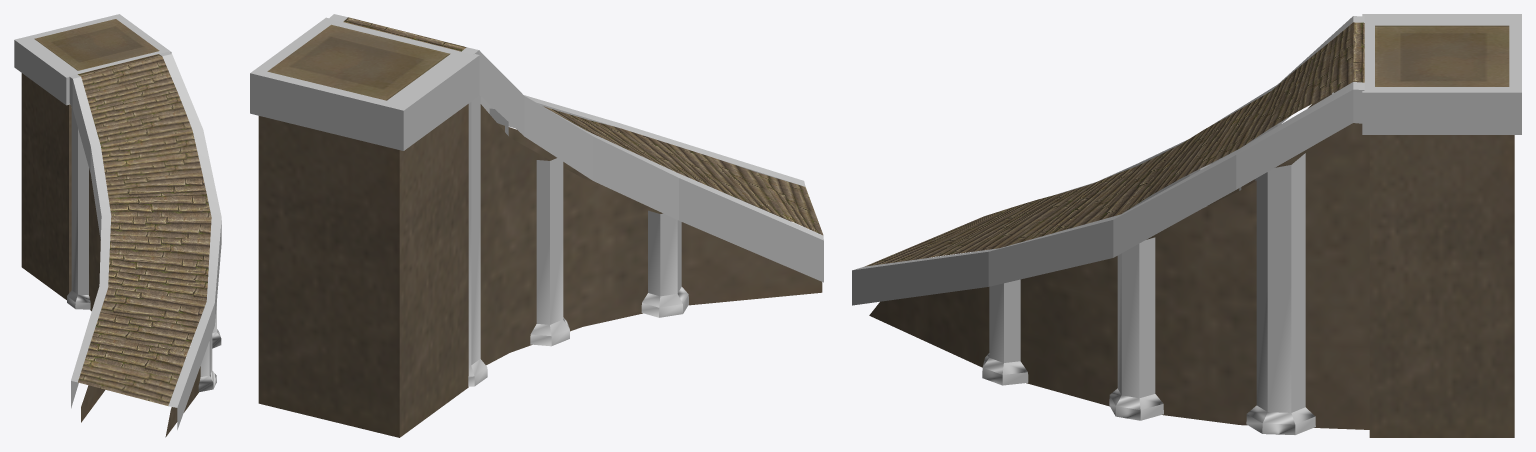
The model's file is spiral_stair_001.FBX.
The picture shows the model from 3 angles, left to right: view 1: azimuth 30°, elevation 25°; view 2: azimuth 150°, elevation 25°; view 3: azimuth 270°, elevation 25°; orthographic projection. The views are drawn at different scales.
Visible parts, largest first — view 1: spiral_stair_001; view 2: spiral_stair_001; view 3: spiral_stair_001.
Part boxes in pixels (<box>): spiral_stair_001: <box>14,14,221,437</box>; spiral_stair_001: <box>250,14,823,437</box>; spiral_stair_001: <box>852,14,1521,437</box>.
Size of the model in its own units: 1232 by 1216 by 2112.
